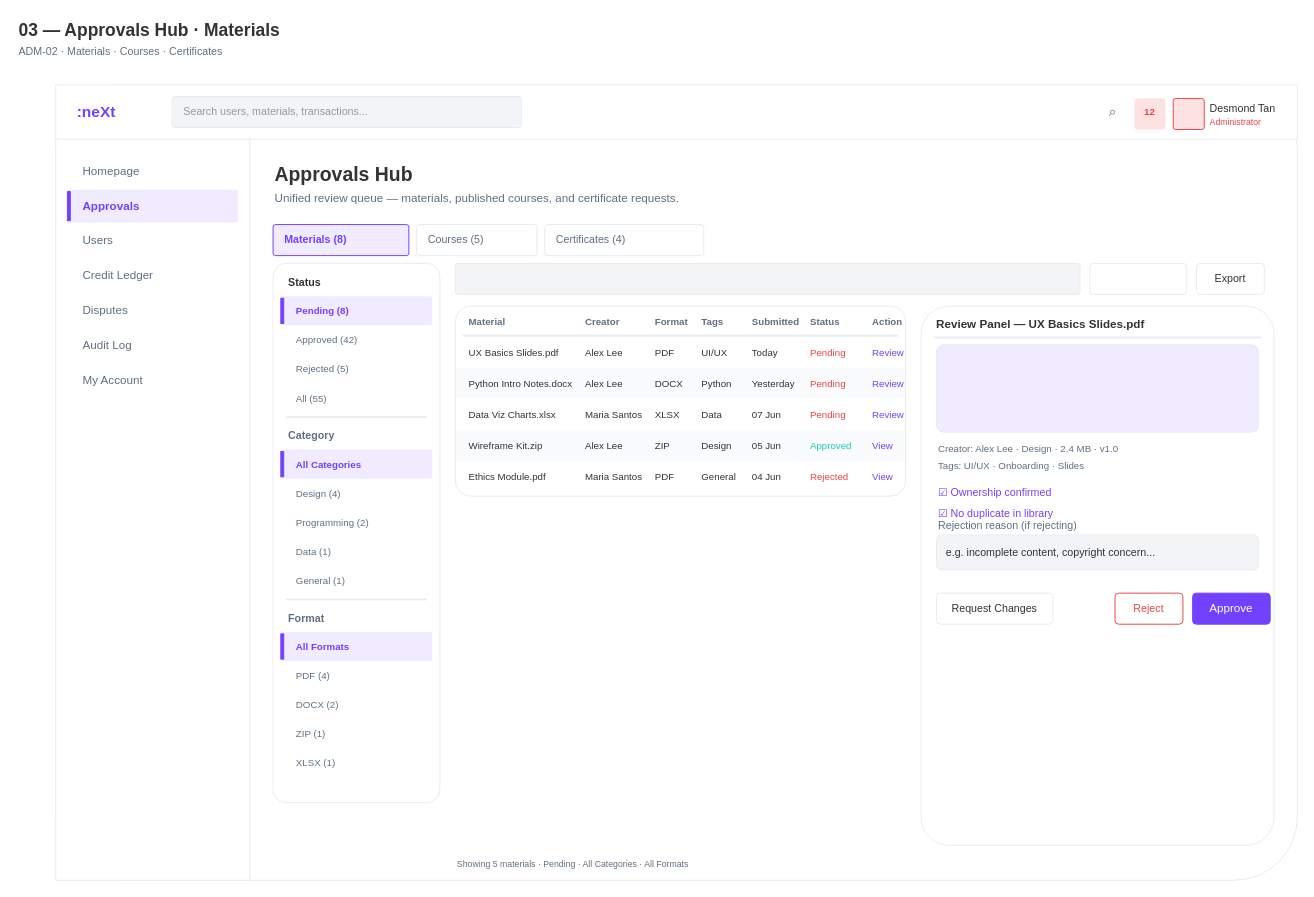
Image size: 1314x897. Some labels were removed from this diagram. The shapes that lost their labels are listed below. From the top down, each one's centre as x and y in pixels, then its label:
point 767,278: Search title, creator, tag...
point 1138,278: Bulk Approve
point 1097,388: PDF Preview · Page 1 of 24
